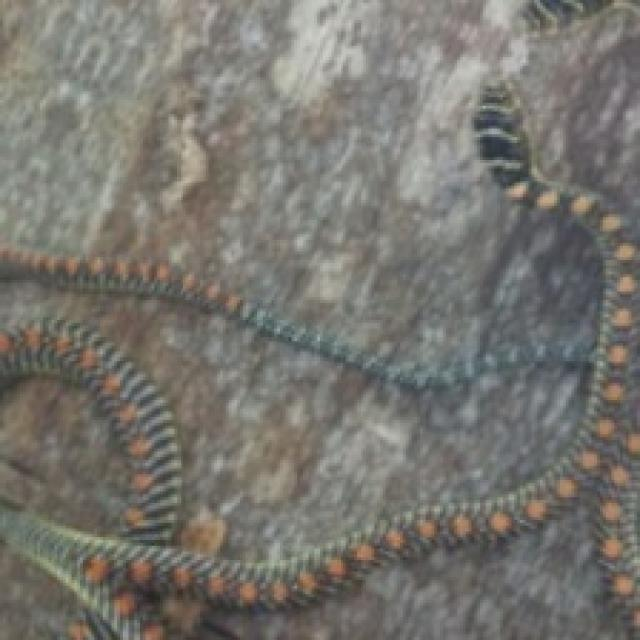paradise tree snake: (0, 0, 637, 637), (563, 189, 623, 454), (471, 80, 563, 211)
